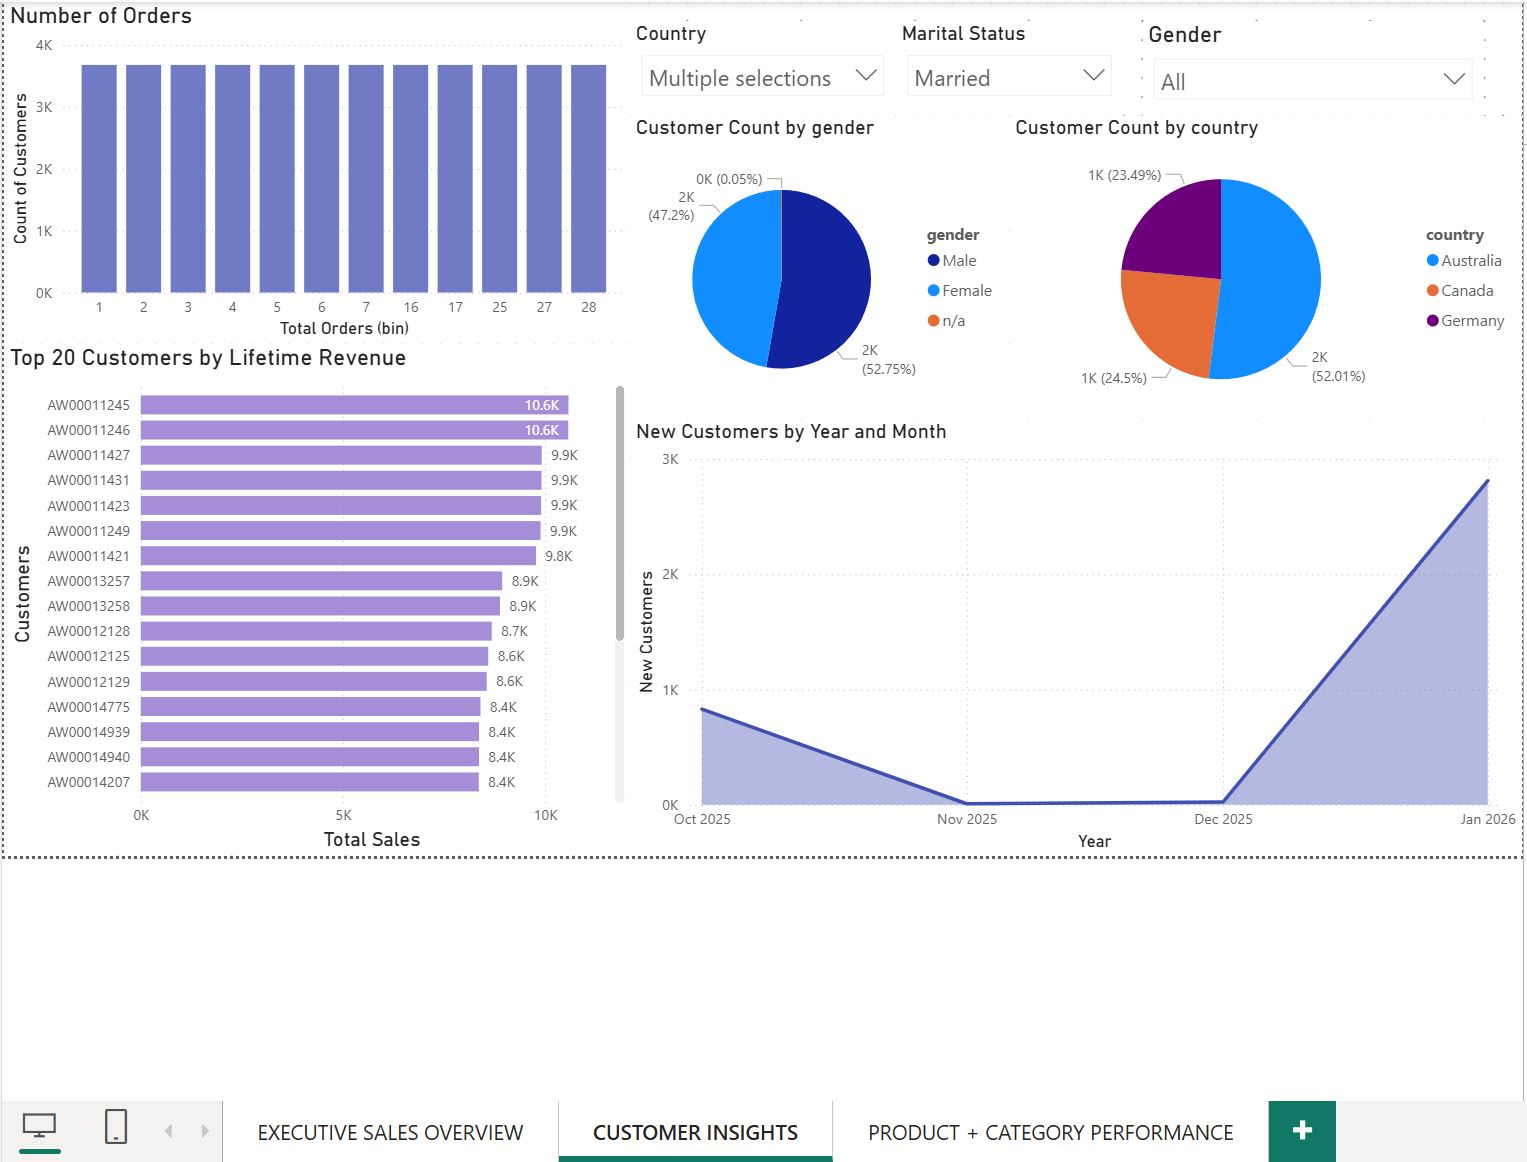

The page's visual inventory and layout, read from the dashboard file:
{"tool":"powerbi","page":{"name":"CUSTOMER INSIGHTS","canvas":[1280,720],"ordinal":1},"visuals":[{"type":"clusteredBarChart","title":"Top 20 Customers by Lifetime Revenue","fields":{"Category":["gold_dim_customer.customer_number"],"Y":["gold_fact_sales.Total Sales Amount"]},"box":[0,288,528,432],"z":0},{"type":"slicer","title":"Gender","fields":{"Values":["gold_dim_customer.gender"]},"box":[960,16,288,80],"z":1000},{"type":"slicer","title":"Country","fields":{"Values":["gold_dim_customer.country"]},"box":[528,16,224,80],"z":2000},{"type":"slicer","title":"Marital Status","fields":{"Values":["gold_dim_customer.marital_status"]},"box":[752,16,192,80],"z":3000},{"type":"clusteredColumnChart","title":"Number of Orders","fields":{"Category":["CustomerOrderStats.TotalOrders (bins)"],"Y":["CountNonNull(gold_dim_customer.customer_id)"]},"box":[0,0,528,288],"z":4000},{"type":"pieChart","fields":{"Category":["gold_dim_customer.gender"],"Y":["gold_dim_customer.Customer Count"]},"box":[528,96,320,256],"z":5000},{"type":"pieChart","fields":{"Category":["gold_dim_customer.country"],"Y":["gold_dim_customer.Customer Count"]},"box":[848,96,432,256],"z":6000},{"type":"lineChart","fields":{"Y":["gold_dim_customer.New Customers"],"Category":["gold_dim_customer.create_date.Variation.Date Hierarchy.Year","gold_dim_customer.create_date.Variation.Date Hierarchy.Month"]},"box":[528,352,752,368],"z":7000}]}

Visuals, with their boxes on the page's 1280x720 design canvas (x1, y1, x2, y2). These are canvas units, not pixel positions in the 1527x1162 screenshot, which may show the page scaled, cropped or inside an application window:
"Top 20 Customers by Lifetime Revenue" clusteredBarChart: [left=0, top=288, right=528, bottom=720]
"Gender" slicer: [left=960, top=16, right=1248, bottom=96]
"Country" slicer: [left=528, top=16, right=752, bottom=96]
"Marital Status" slicer: [left=752, top=16, right=944, bottom=96]
"Number of Orders" clusteredColumnChart: [left=0, top=0, right=528, bottom=288]
pieChart - gold_dim_customer.gender x gold_dim_customer.Customer Count: [left=528, top=96, right=848, bottom=352]
pieChart - gold_dim_customer.country x gold_dim_customer.Customer Count: [left=848, top=96, right=1280, bottom=352]
lineChart - gold_dim_customer.New Customers x gold_dim_customer.create_date.Variation.Date Hierarchy.Year: [left=528, top=352, right=1280, bottom=720]
